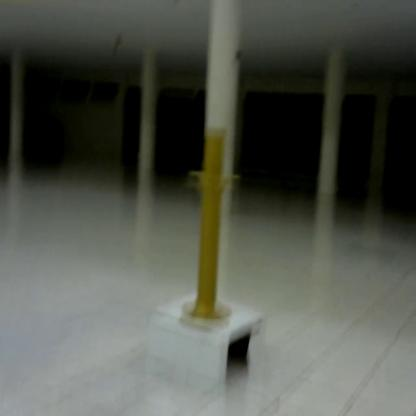pole: (182, 128, 244, 326)
